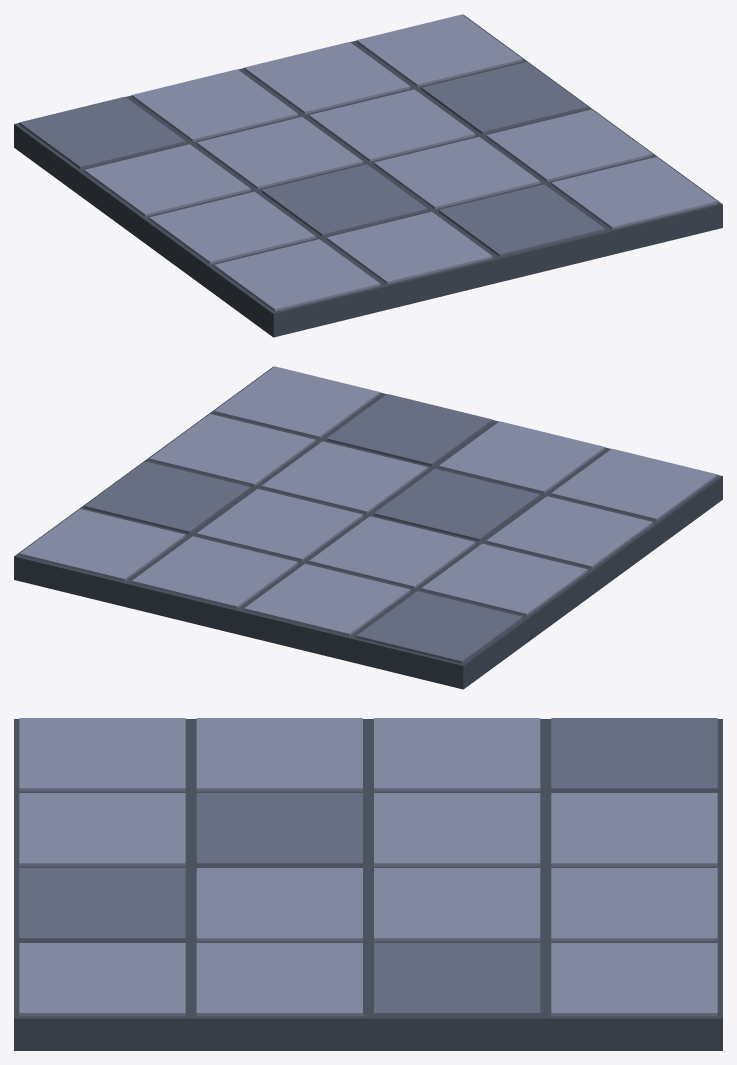
The model's file is FloorTile01.fbx.
3 renders of one model, top to bottom at view 1: azimuth 30°, elevation 25°; view 2: azimuth 150°, elevation 25°; view 3: azimuth 270°, elevation 25°, orthographic. The views are drawn at different scales.
Parts seen in each view (by area): view 1: Tile01; view 2: Tile01; view 3: Tile01.
Part boxes in pixels (left/top/right/bottom): Tile01: left=14, top=14, right=722, bottom=337; Tile01: left=14, top=366, right=722, bottom=689; Tile01: left=14, top=718, right=722, bottom=1050.
Bounding box in the file's own units: 2 × 0.1101 × 2.
